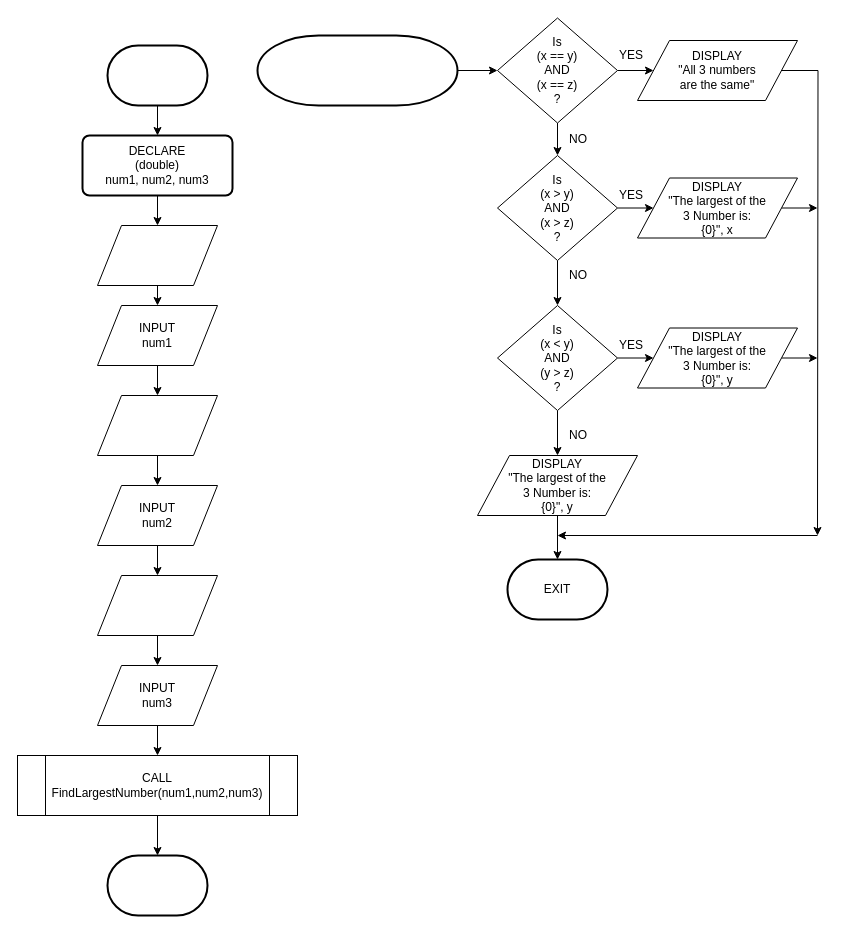
Some shapes in this 844 by 933 pixel diagram are drawn without their labels. The shapes that lost their labels are listed below. From the top down, each one's centre as x and y in pixels, then its label:
point (157, 75): START
point (357, 70): *FindLargestNumber (double x,y,z)
point (157, 255): DISPLAY "Input num1: "
point (157, 425): DISPLAY "Input num2: "
point (157, 605): DISPLAY "Input num3: "
point (157, 885): END
